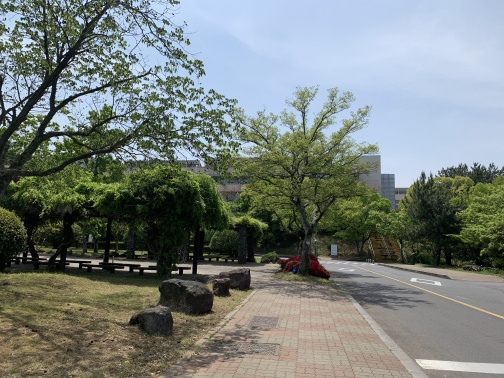College Of Education: (112, 144, 423, 218), (182, 155, 415, 210)
